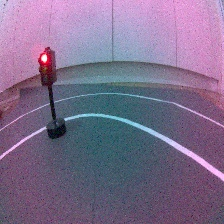red: (36, 45, 69, 141)
